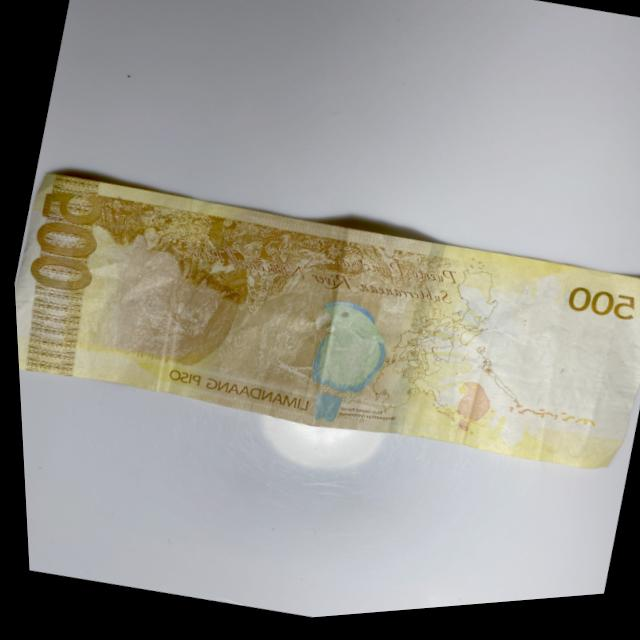500_big_parrot: (278, 291, 404, 444)
500_parrot_watermark: (432, 383, 494, 447)
value_watermark: (578, 378, 611, 416)
